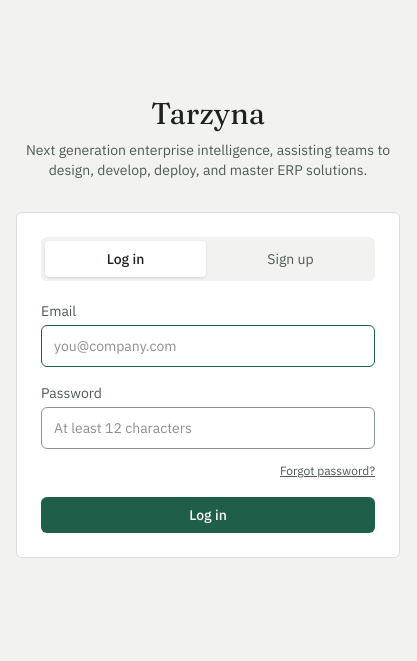
Test: LoginPage signup flow › sends organization_name only for organization signup
Click the button "Sign up": click(290, 259) [210,241,371,277]
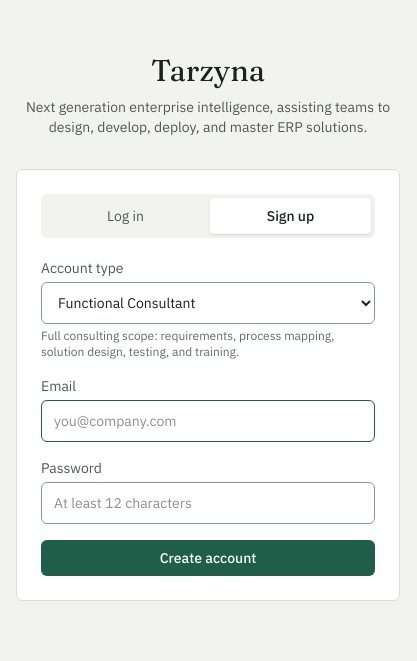
Select "Organization" in the dropdown labelled "Account type": (208, 303) [41,282,375,324]
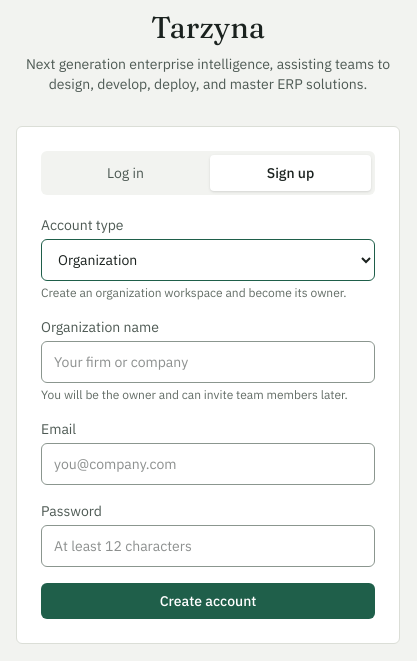
In the field labelled "Organization name": (208, 362) [41,341,375,383], type "Acme"
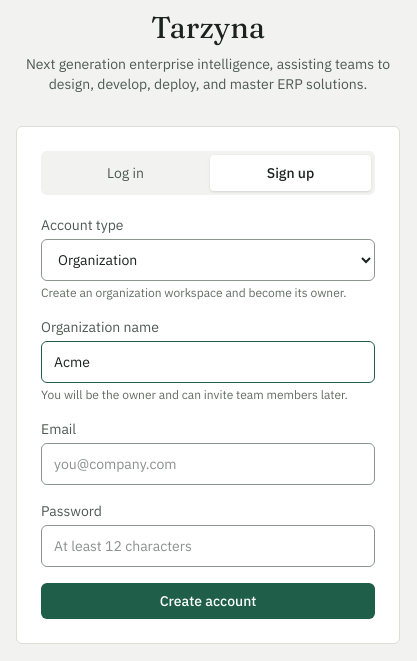
In the field labelled "Email": (208, 464) [41,443,375,485], type "a@b.com"
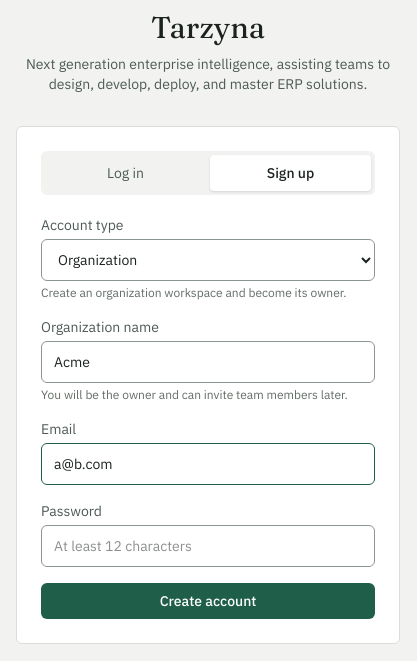
In the password field labelled "Password": (208, 546) [41,525,375,567], type "correct horse battery staple"
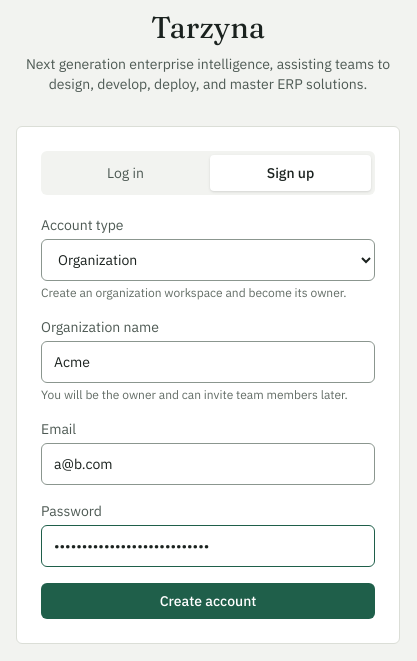
Click the button "Create account": click(208, 601) [41,583,375,619]
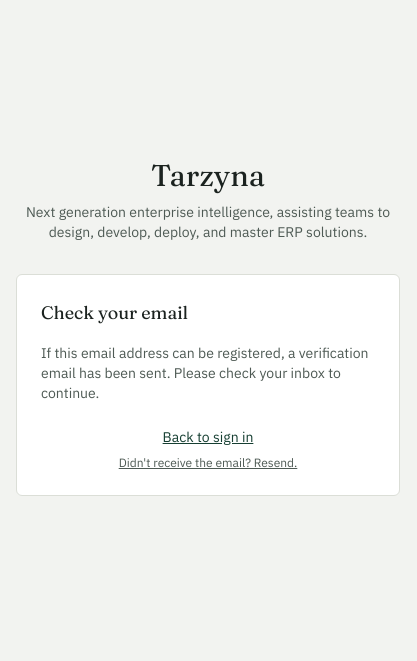
Check: the heading "Check your email" is shown, box [41,301,188,324]
